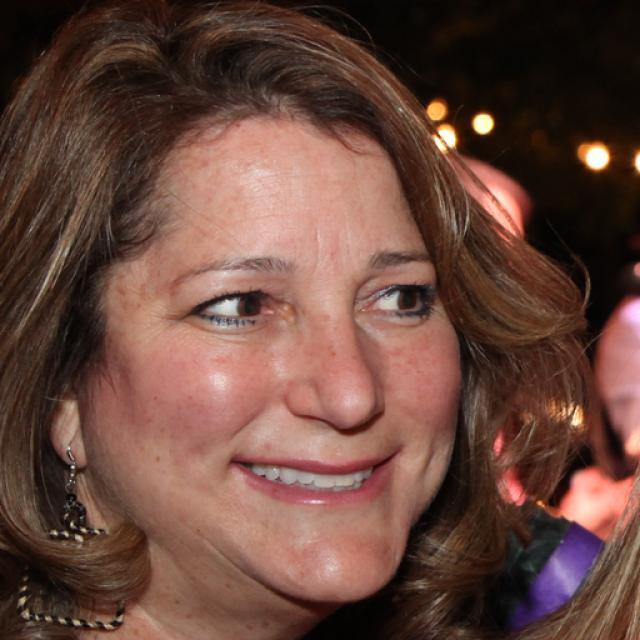happy: (89, 96, 469, 602)
